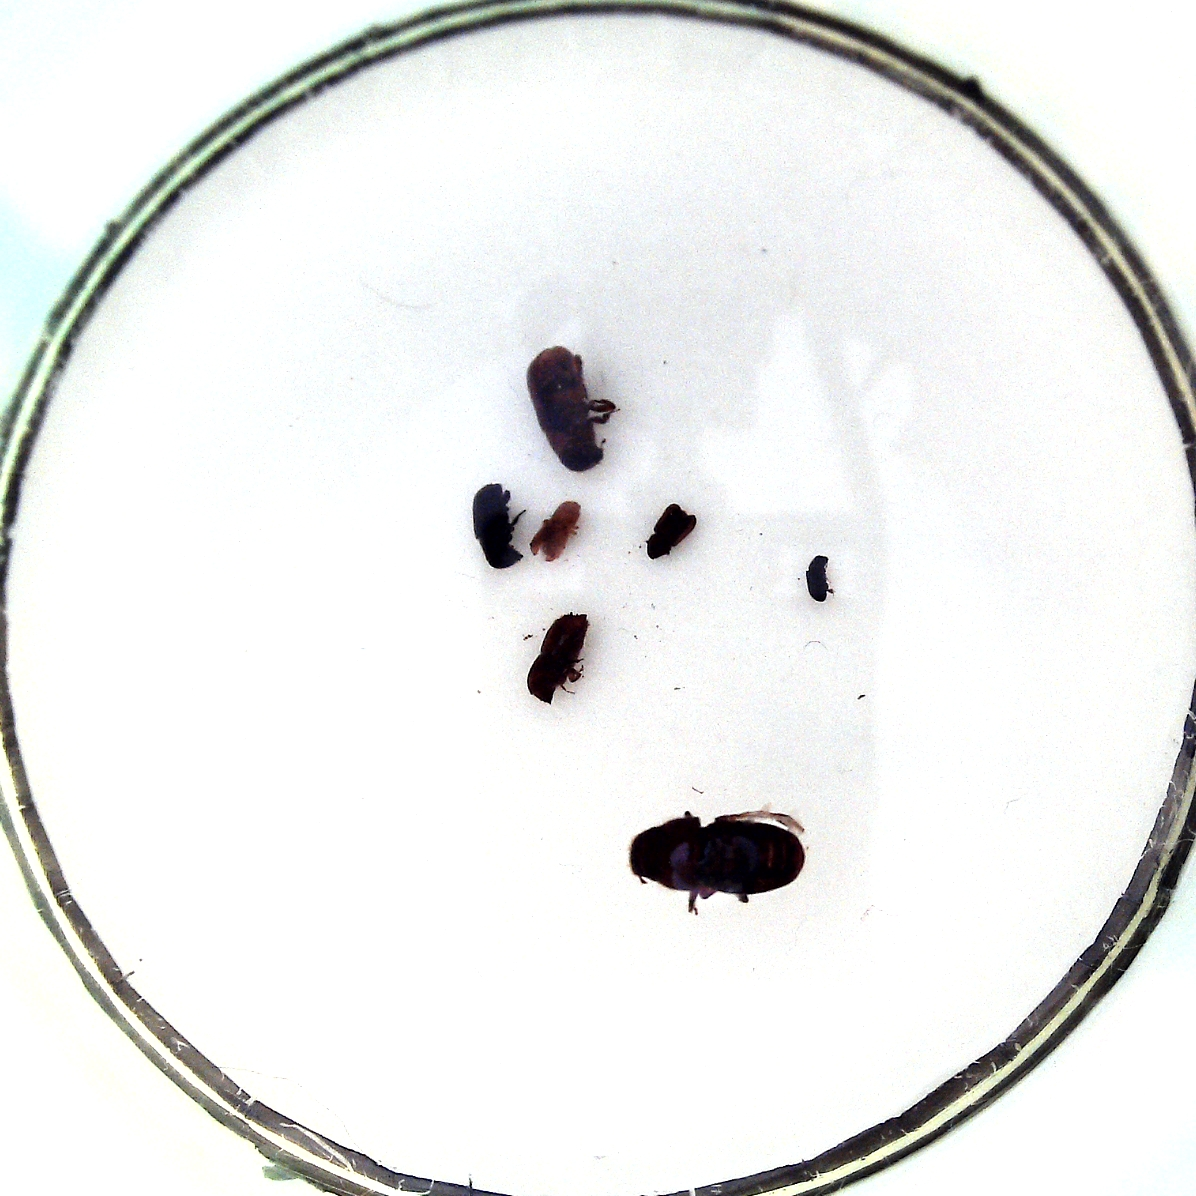Leconte: (630, 815, 805, 896), (526, 346, 605, 473)
acuminatus: (806, 555, 830, 603)
armandi: (473, 483, 524, 570)
coleoptera: (529, 501, 582, 561), (647, 503, 697, 560)
linnaeus: (526, 612, 590, 704)
